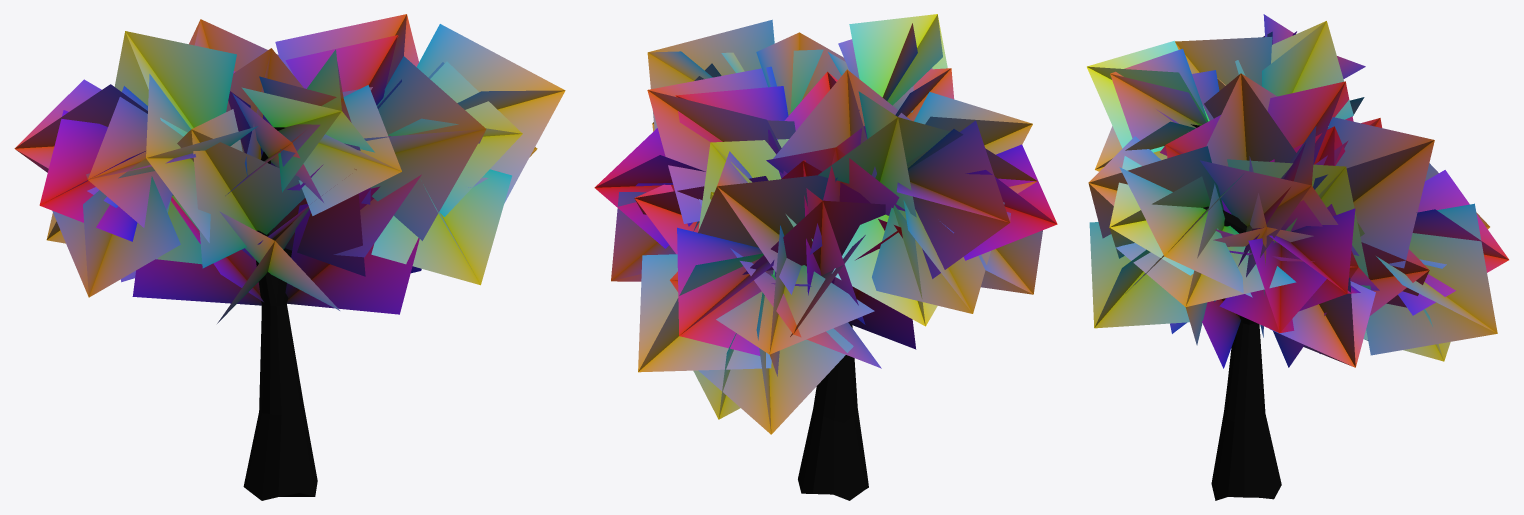
File: massive_swamptree_01_a.dae
3 renders of one model, left to right at view 1: azimuth 30°, elevation 25°; view 2: azimuth 150°, elevation 25°; view 3: azimuth 270°, elevation 25°, orthographic. The views are drawn at different scales.
Parts seen in each view (by area): view 1: swamptree128; view 2: swamptree128; view 3: swamptree128.
Part boxes in pixels (left/top/right/bottom): swamptree128: left=14, top=14, right=565, bottom=500; swamptree128: left=594, top=14, right=1057, bottom=500; swamptree128: left=1087, top=14, right=1508, bottom=500.
Size of what is drawn, in the model's own units: 24.2 by 19.88 by 22.24.
